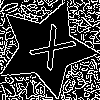X: (21, 23, 78, 80)
